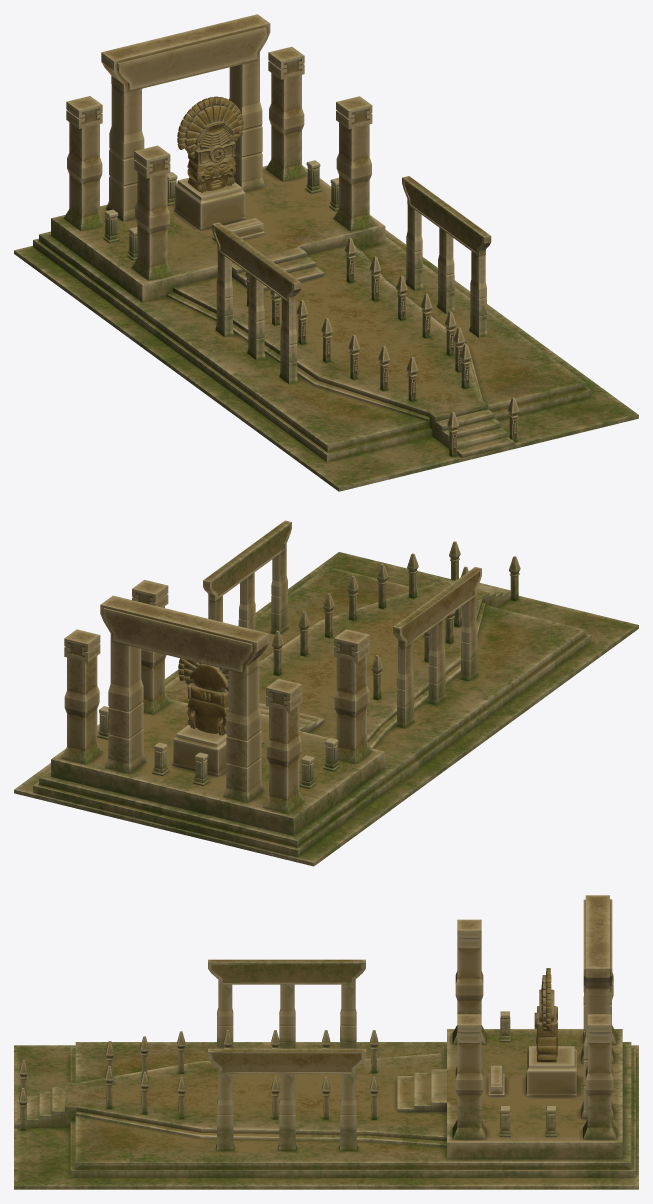
The model's file is aztec_temple.glb.
The picture shows the model from 3 angles, top to bottom: view 1: azimuth 30°, elevation 25°; view 2: azimuth 150°, elevation 25°; view 3: azimuth 270°, elevation 25°; orthographic projection. The views are drawn at different scales.
Visible parts, largest first — view 1: Floor.002, Floor, Floor.001, Floor.004, Pillar Tops and Stands.002, Aztec God, Large Pillars.006, Large Pillars, Large Pillars.008, Large Pillars.007, Large Pillars.004, Large Pillars.005 (+11 smaller); view 2: Floor.002, Floor.004, Floor.001, Floor, Pillar Tops and Stands.002, Large Pillars.004, Large Pillars.005, Large Pillars, Large Pillars.008, Large Pillars.007, Aztec God, Pillar Tops and Stands.004 (+10 smaller); view 3: Floor.002, Floor, Floor.001, Floor.004, Pillar Tops and Stands.001, Pillar Tops and Stands.004, Large Pillars.006, Large Pillars.008, Pillar Tops and Stands.002, Large Pillars.007, Statue Stand, Floor.003 (+10 smaller).
Part boxes in pixels (<box>): Floor.002: <box>33,231,591,462</box>; Floor: <box>167,245,482,421</box>; Floor.001: <box>14,229,638,491</box>; Floor.004: <box>51,165,385,302</box>; Pillar Tops and Stands.002: <box>101,14,270,92</box>; Aztec God: <box>177,96,243,192</box>; Large Pillars.006: <box>333,96,375,231</box>; Large Pillars: <box>63,96,105,230</box>; Large Pillars.008: <box>266,46,307,181</box>; Large Pillars.007: <box>131,145,173,280</box>; Large Pillars.004: <box>106,84,144,221</box>; Large Pillars.005: <box>229,60,265,191</box>; Floor.002: <box>33,566,591,857</box>; Floor.004: <box>51,699,385,835</box>; Floor.001: <box>14,552,638,866</box>; Floor: <box>188,585,485,748</box>; Pillar Tops and Stands.002: <box>100,595,269,674</box>; Large Pillars.004: <box>223,665,264,802</box>; Large Pillars.005: <box>105,641,146,773</box>; Large Pillars: <box>263,678,304,813</box>; Large Pillars.008: <box>61,629,102,764</box>; Large Pillars.007: <box>334,629,372,764</box>; Aztec God: <box>178,658,228,735</box>; Pillar Tops and Stands.004: <box>393,567,481,647</box>; Floor.002: <box>70,1042,635,1177</box>; Floor: <box>76,1052,446,1147</box>; Floor.001: <box>14,1045,638,1189</box>; Floor.004: <box>447,1029,622,1159</box>; Pillar Tops and Stands.001: <box>208,1048,365,1073</box>; Pillar Tops and Stands.004: <box>208,959,365,984</box>; Large Pillars.006: <box>452,1014,486,1139</box>; Large Pillars.008: <box>583,1014,616,1139</box>; Pillar Tops and Stands.002: <box>583,895,612,996</box>; Large Pillars.007: <box>452,919,486,1044</box>; Statue Stand: <box>526,1046,577,1096</box>; Floor.003: <box>14,1082,77,1127</box>.
Size of the model in its own units: 1464 by 909 by 2748.
Materials: 2 (2 with a texture image).
